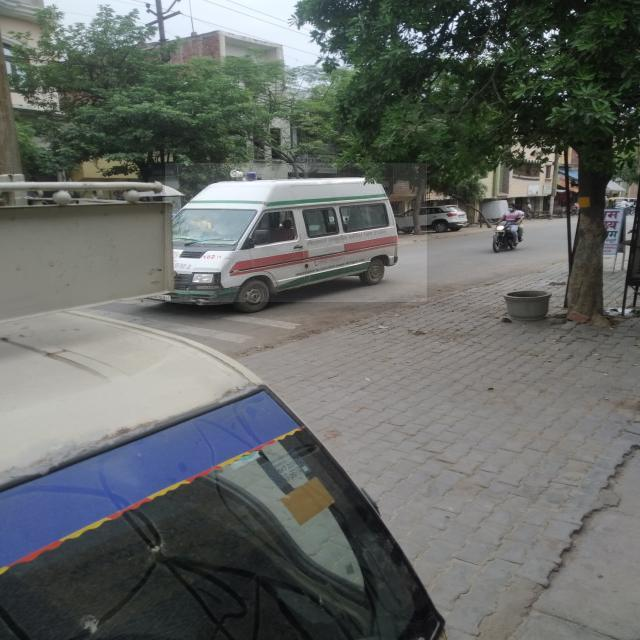Travller: (165, 163, 428, 302)
